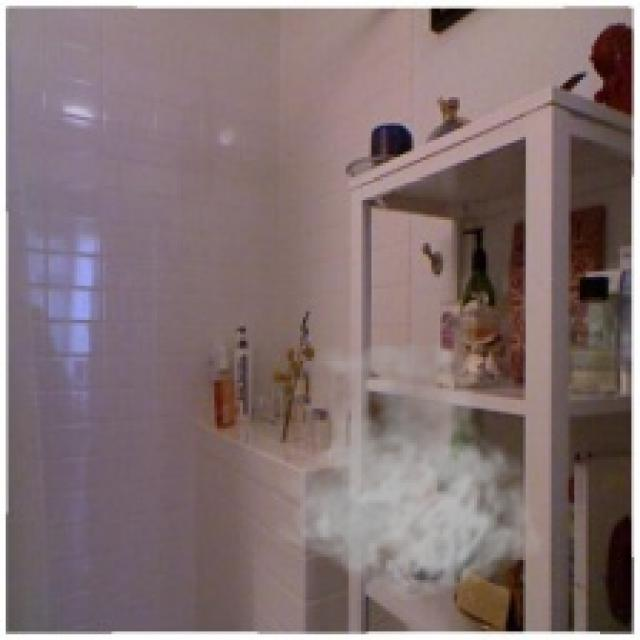smoke: (268, 320, 546, 603)
